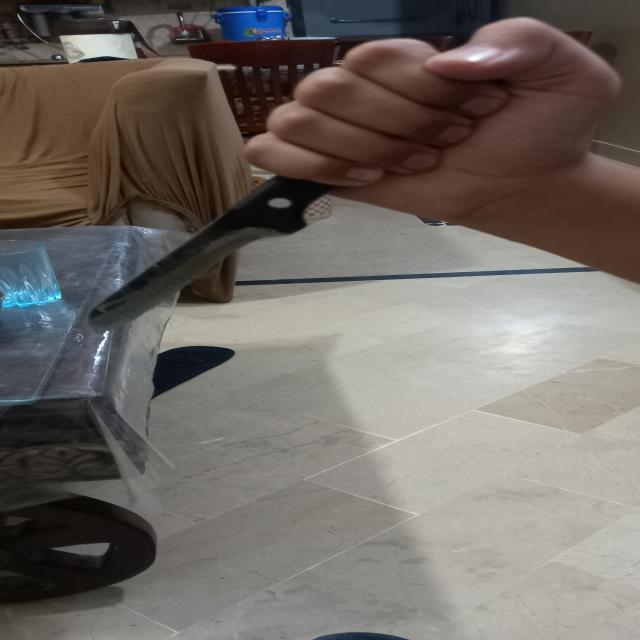Knife: (92, 66, 480, 328)
